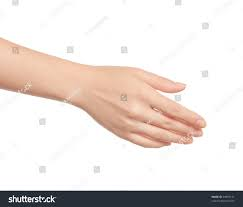hand: (58, 44, 224, 177)
